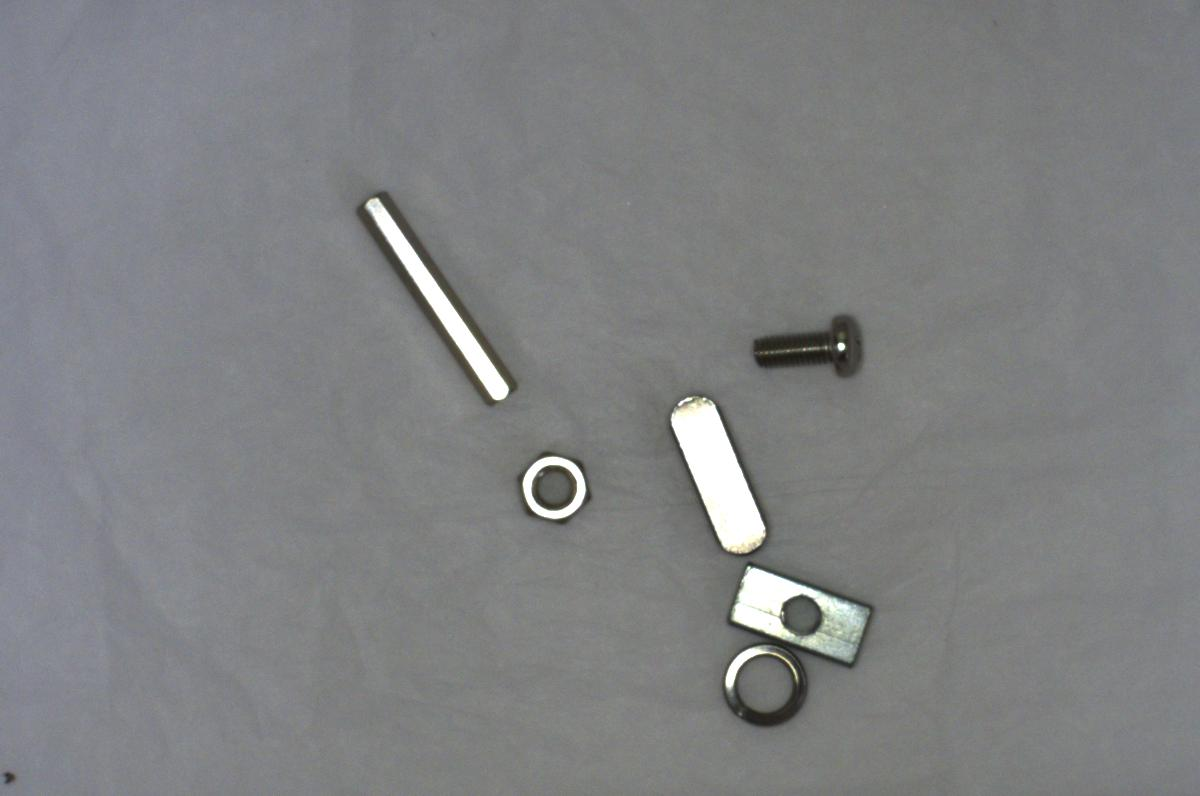Double hexagonal column: (347, 183, 524, 412)
Hexagon nut: (506, 448, 606, 524)
Keybar: (657, 389, 774, 559)
Rectangular nut: (723, 563, 878, 671)
Round head screw: (750, 301, 864, 396)
Spring washer: (708, 633, 815, 733)
